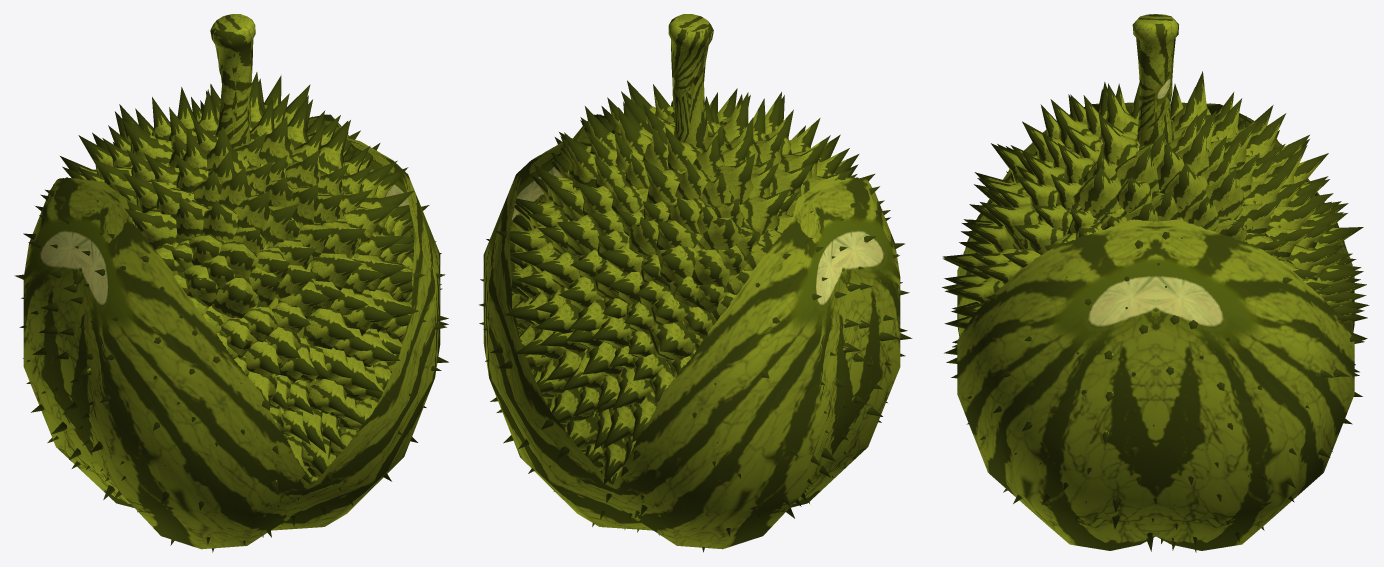
The model's file is Durian.fbx.
3 views of the same model, side by side, from view 1: azimuth 30°, elevation 25°; view 2: azimuth 150°, elevation 25°; view 3: azimuth 270°, elevation 25° (orthographic). The views are drawn at different scales.
Visible parts, largest first — view 1: Durian, Durian.001; view 2: Durian, Durian.001; view 3: Durian.001, Durian.
Boxes of the visible parts, x1,y1,x2,y2 form: Durian: [14, 14, 448, 552]; Durian.001: [23, 48, 440, 549]; Durian: [479, 14, 912, 552]; Durian.001: [483, 29, 900, 549]; Durian.001: [957, 50, 1354, 550]; Durian: [942, 14, 1369, 552].
Bounding box in the file's own units: 17.94 × 24 × 17.96.
